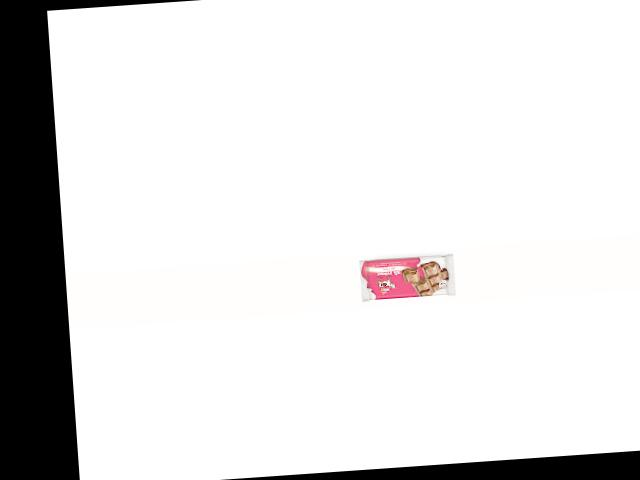chocolate: (342, 231, 457, 297)
